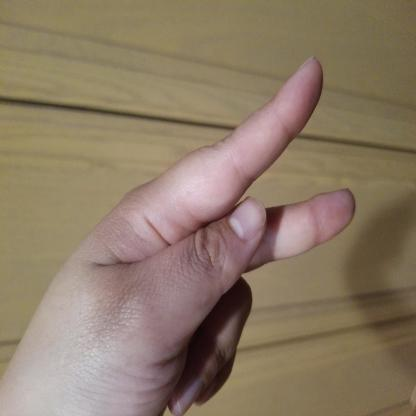P: (30, 47, 361, 416)
